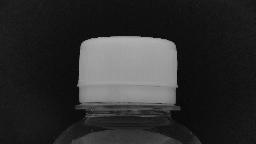Good Cap: (70, 30, 184, 115)
